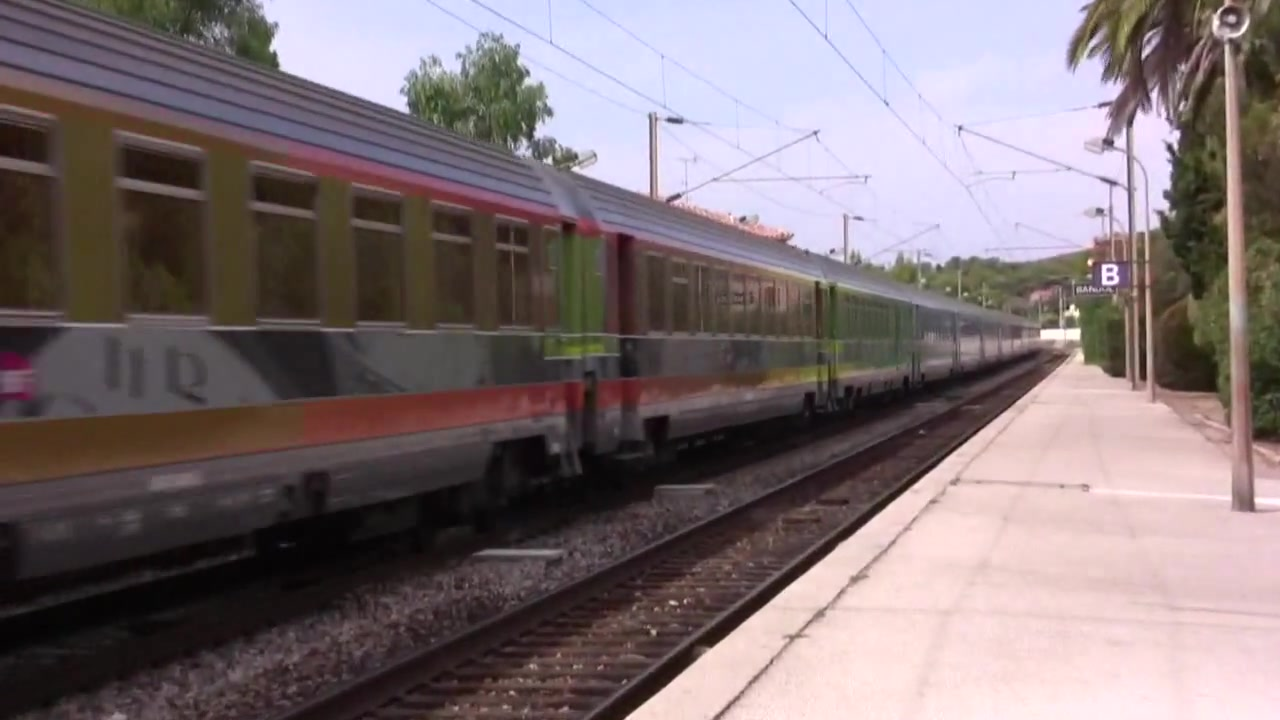train: (1, 1, 1046, 619)
